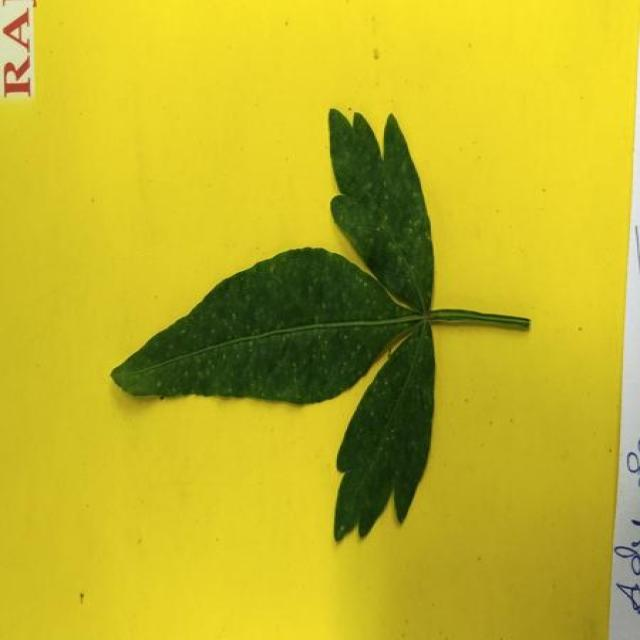balloon_Vine: (112, 110, 530, 539)
